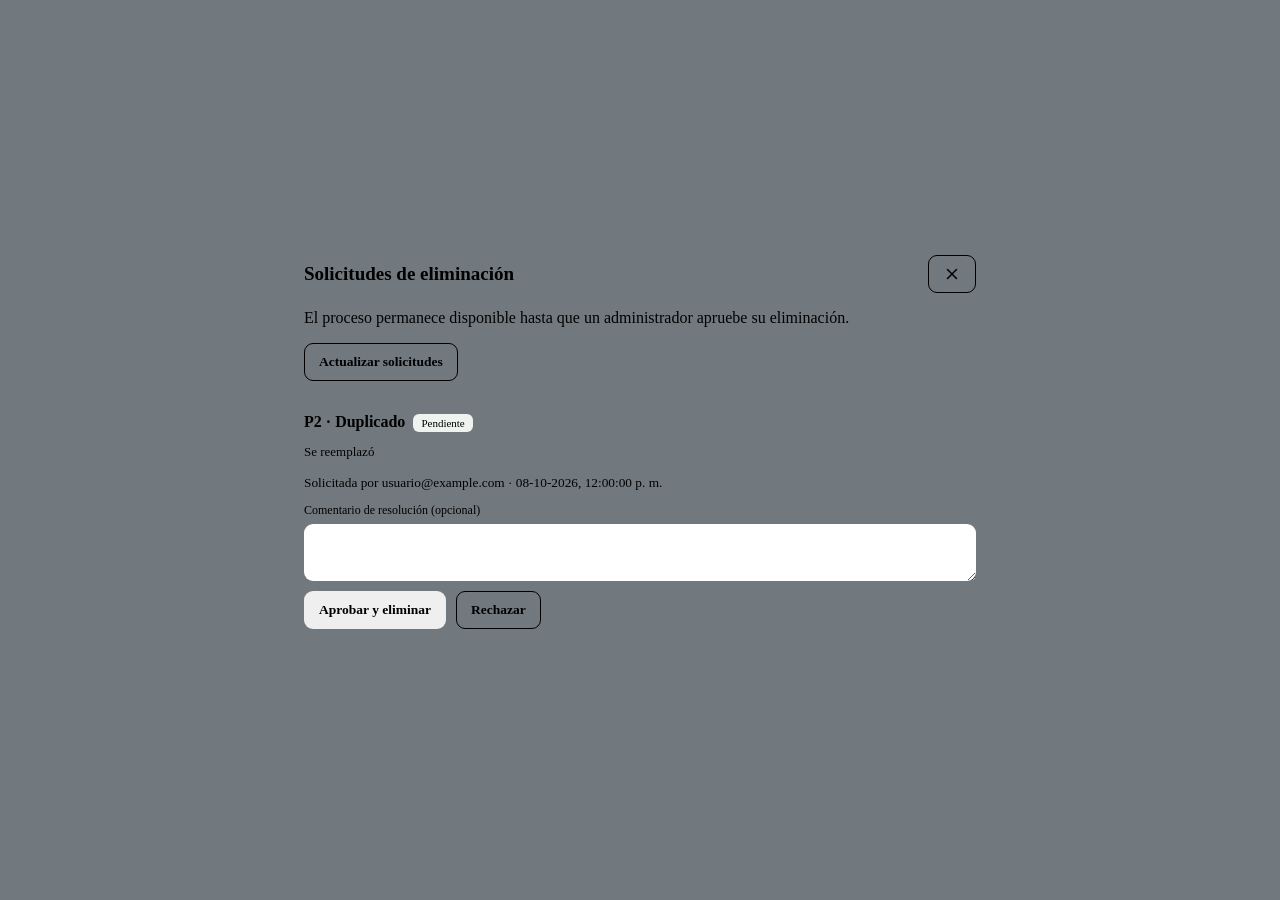
it: Bandeja de solicitudes de eliminación › conserva la solicitud pendiente si el servidor rechaza la aprobación
This screenshot has width=1280, height=900.
Click the button "Rechazar": (498, 610) [456,591,541,629]
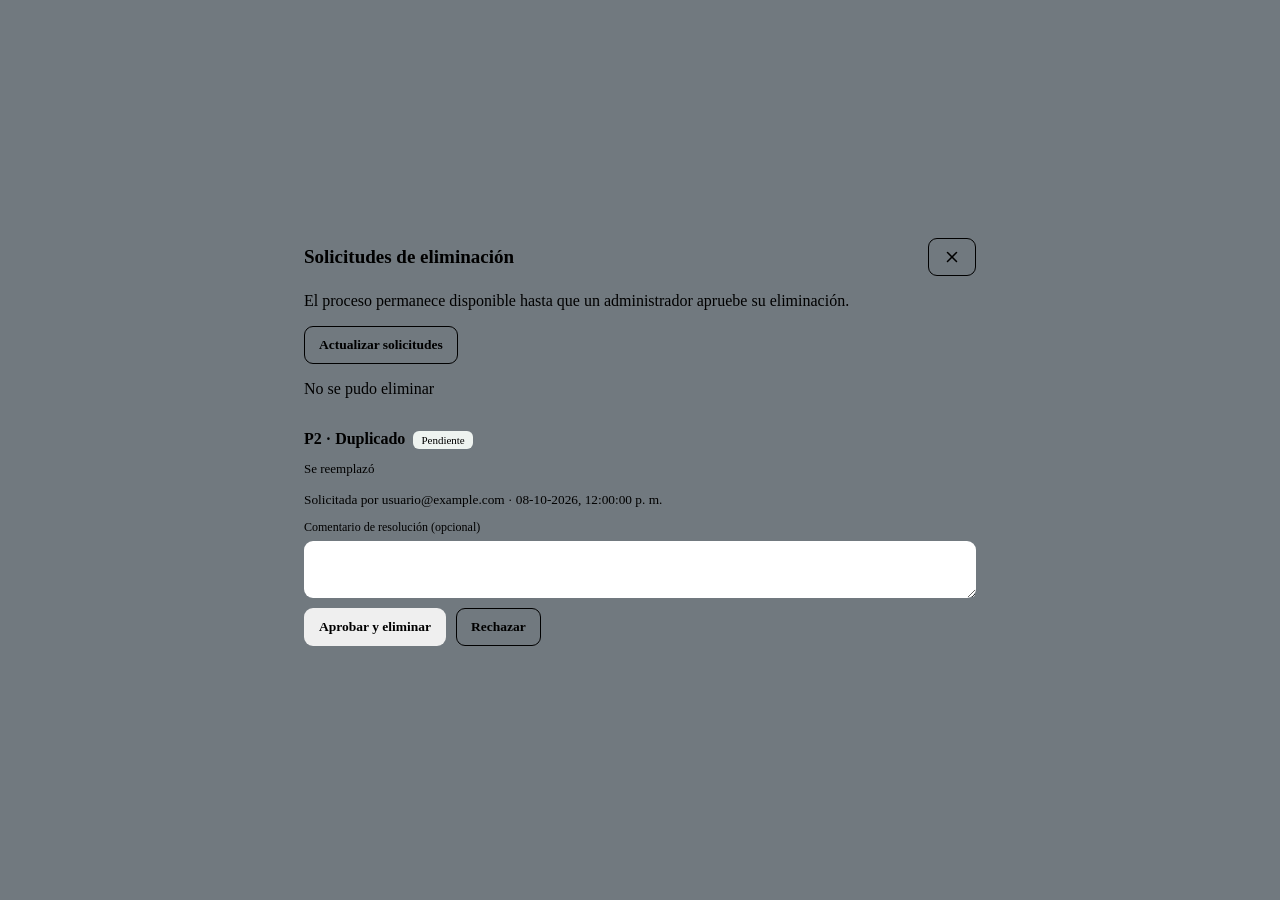
Expected: the text "Pendiente" is shown, [413,431,473,449]
Now the message reads "No se pudo eliminar", box [304,380,434,397]
